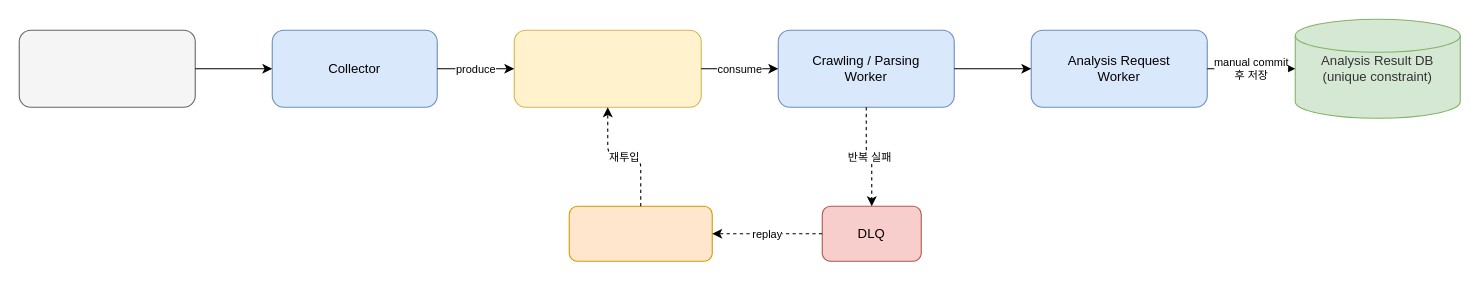
This 1480x281 diagram has some shape labels left out. The centre of each missing label's shape, as x and y in pixels:
"External Source (뉴스·공시·시장)" belongs at pixel 106 68.
"Kafka Topic (message/partition key)" belongs at pixel 607 68.
"Replay Worker" belongs at pixel 640 233.
